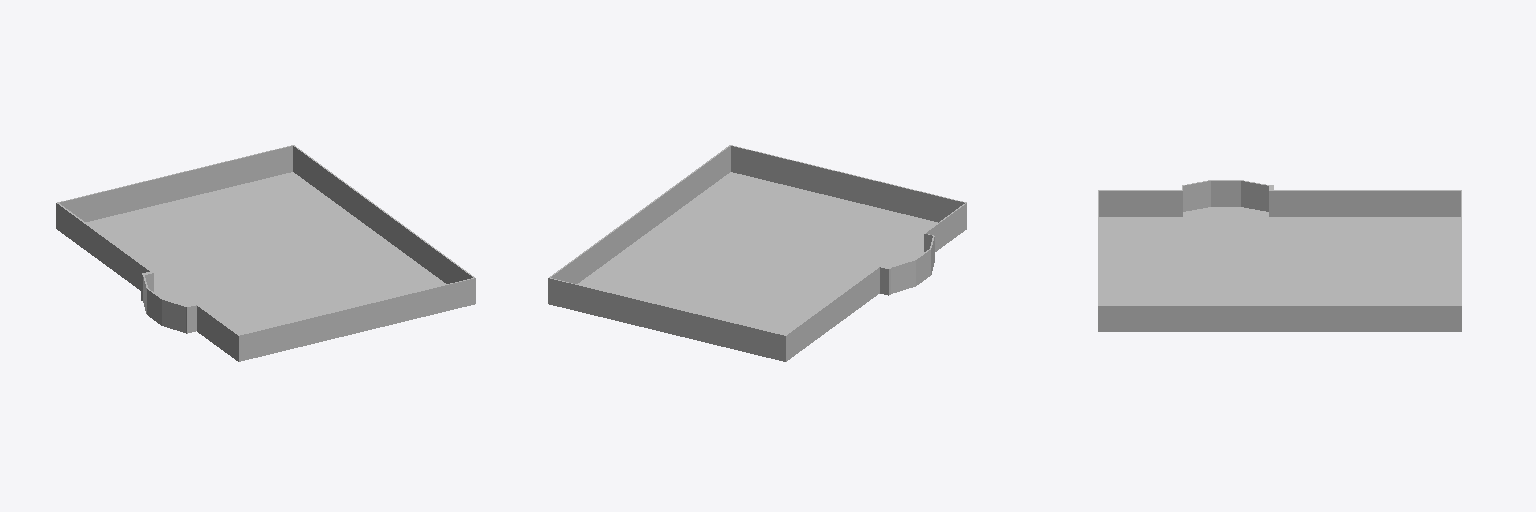
File: house.obj
The picture shows the model from 3 angles: view 1: azimuth 30°, elevation 25°; view 2: azimuth 150°, elevation 25°; view 3: azimuth 270°, elevation 25°; orthographic projection.
Parts seen in each view (by area): view 1: Cube; view 2: Cube; view 3: Cube.
Boxes of the visible parts, x1=… form: Cube: x1=56, y1=145, x2=475, y2=361; Cube: x1=548, y1=145, x2=966, y2=361; Cube: x1=1098, y1=180, x2=1461, y2=331.
Size of the model in its own units: 224 by 21.79 by 274.